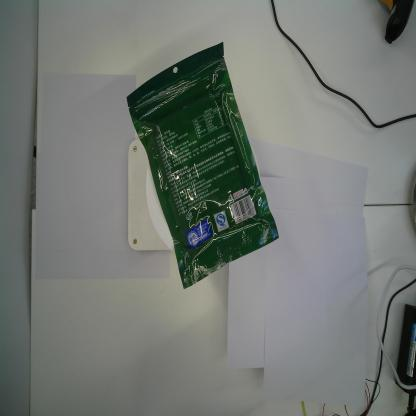Dried Food: (126, 40, 278, 289)
